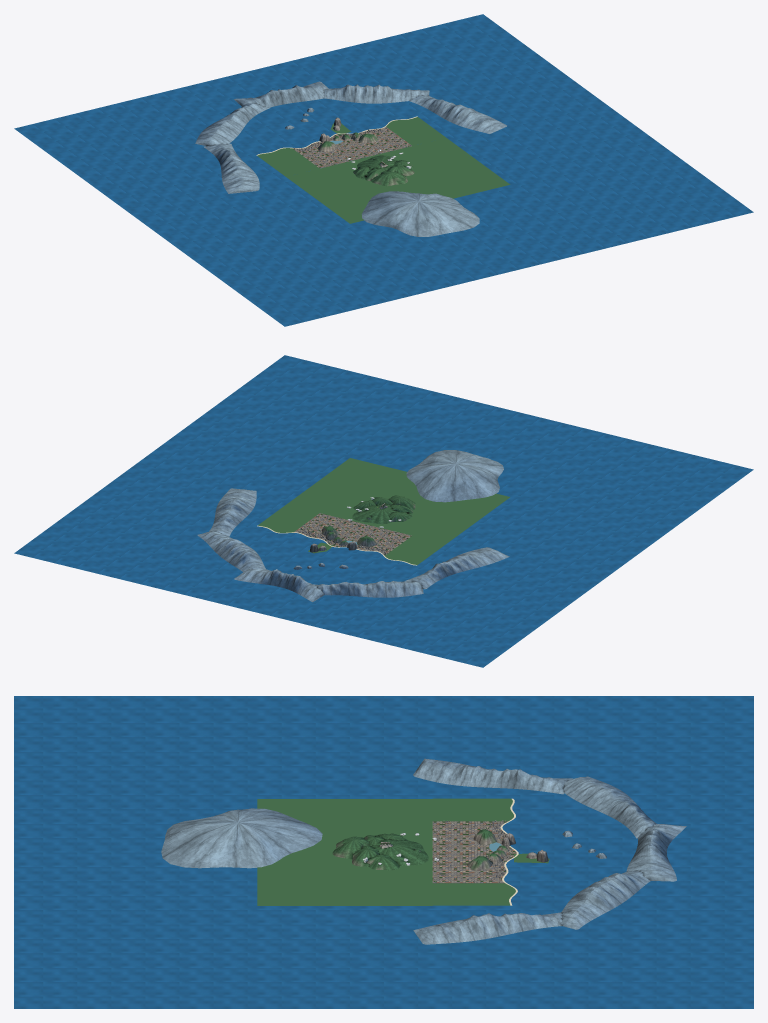
Rendered from lugar-rio.glb.
The picture shows the model from 3 angles, top to bottom: view 1: azimuth 30°, elevation 25°; view 2: azimuth 150°, elevation 25°; view 3: azimuth 270°, elevation 25°; orthographic projection. The views are drawn at different scales.
Visible parts, largest first — view 1: planoF, vert-lejos; view 2: planoF, vert-lejos; view 3: planoF, vert-lejos.
Boxes of the visible parts, <box> form: planoF: <box>14,14,753,326</box>; vert-lejos: <box>195,81,506,236</box>; planoF: <box>14,355,753,667</box>; vert-lejos: <box>197,450,509,602</box>; planoF: <box>14,696,753,1008</box>; vert-lejos: <box>161,758,686,944</box>.
Bounding box in the file's own units: 15200 × 404 × 15200.
Materials: 20 (13 with a texture image).
